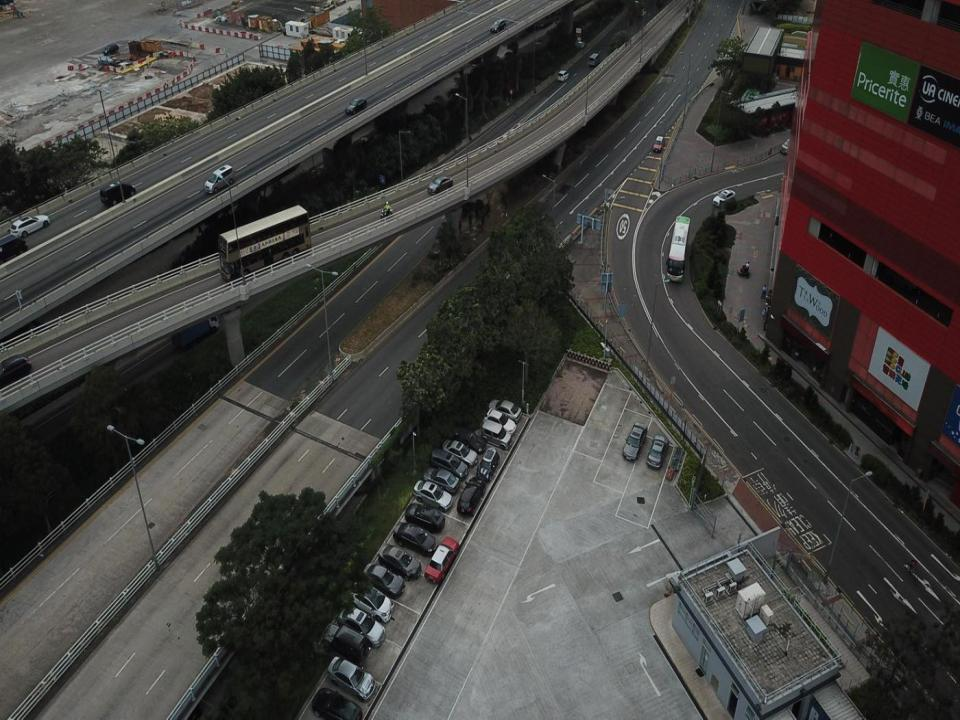bus: (217, 204, 313, 281), (664, 213, 690, 283)
car: (328, 650, 375, 702), (322, 619, 369, 667), (336, 603, 387, 647), (310, 684, 364, 719), (357, 558, 404, 598), (376, 541, 422, 581), (424, 535, 460, 584), (350, 581, 394, 621), (412, 475, 454, 515), (404, 496, 446, 534), (392, 520, 438, 554), (428, 446, 470, 482), (440, 434, 477, 470), (456, 475, 487, 516), (0, 353, 31, 392), (451, 421, 488, 453), (621, 421, 648, 461), (422, 464, 459, 493), (483, 405, 517, 436), (487, 394, 522, 422), (645, 432, 670, 470), (9, 213, 49, 236), (481, 421, 512, 450), (98, 180, 134, 204), (205, 164, 234, 192), (478, 447, 501, 481), (0, 233, 27, 261), (427, 174, 453, 195), (346, 93, 368, 117), (713, 184, 735, 207), (780, 136, 798, 156), (490, 17, 505, 34), (652, 133, 665, 152), (556, 68, 570, 80)
van: (103, 40, 121, 54), (589, 51, 600, 67)
